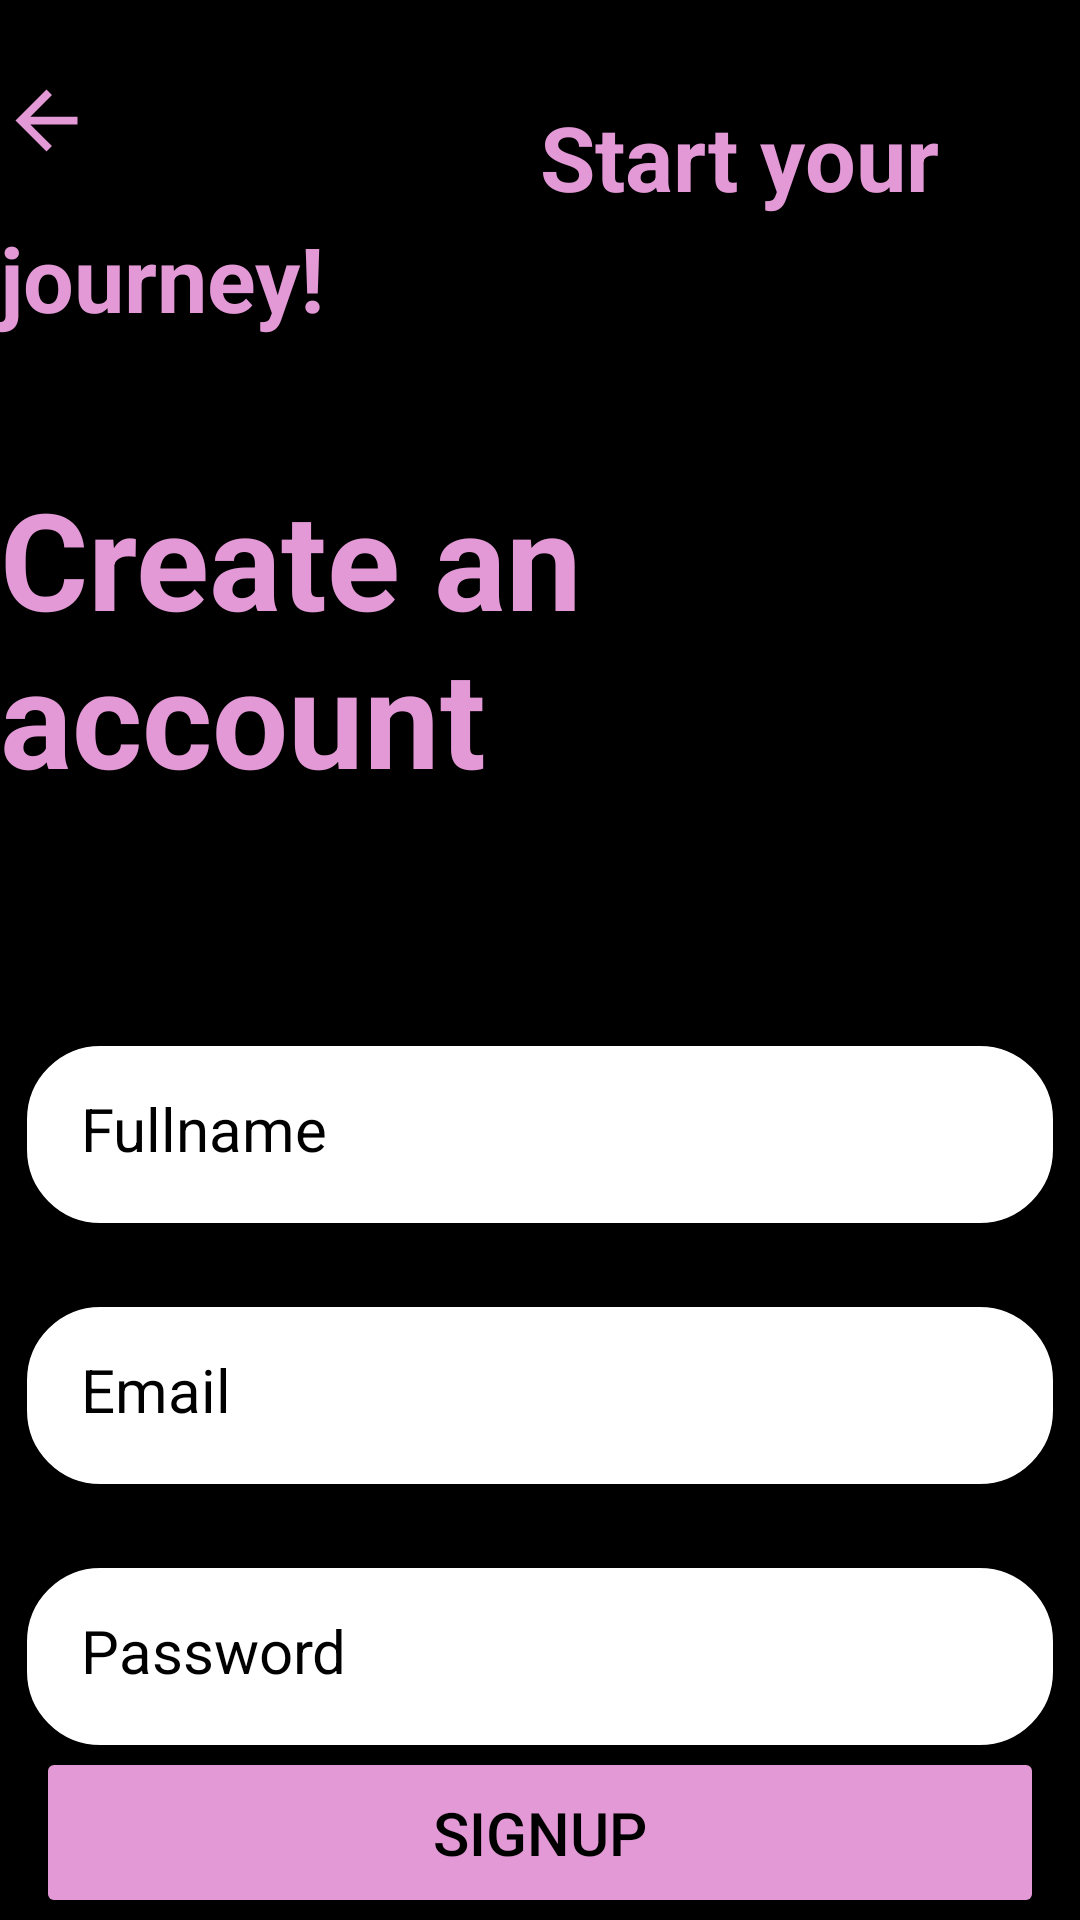

Screen size 1080 × 1920. Icon name, then its center in pixels as [x,y]:
arrow back: [46,120]
